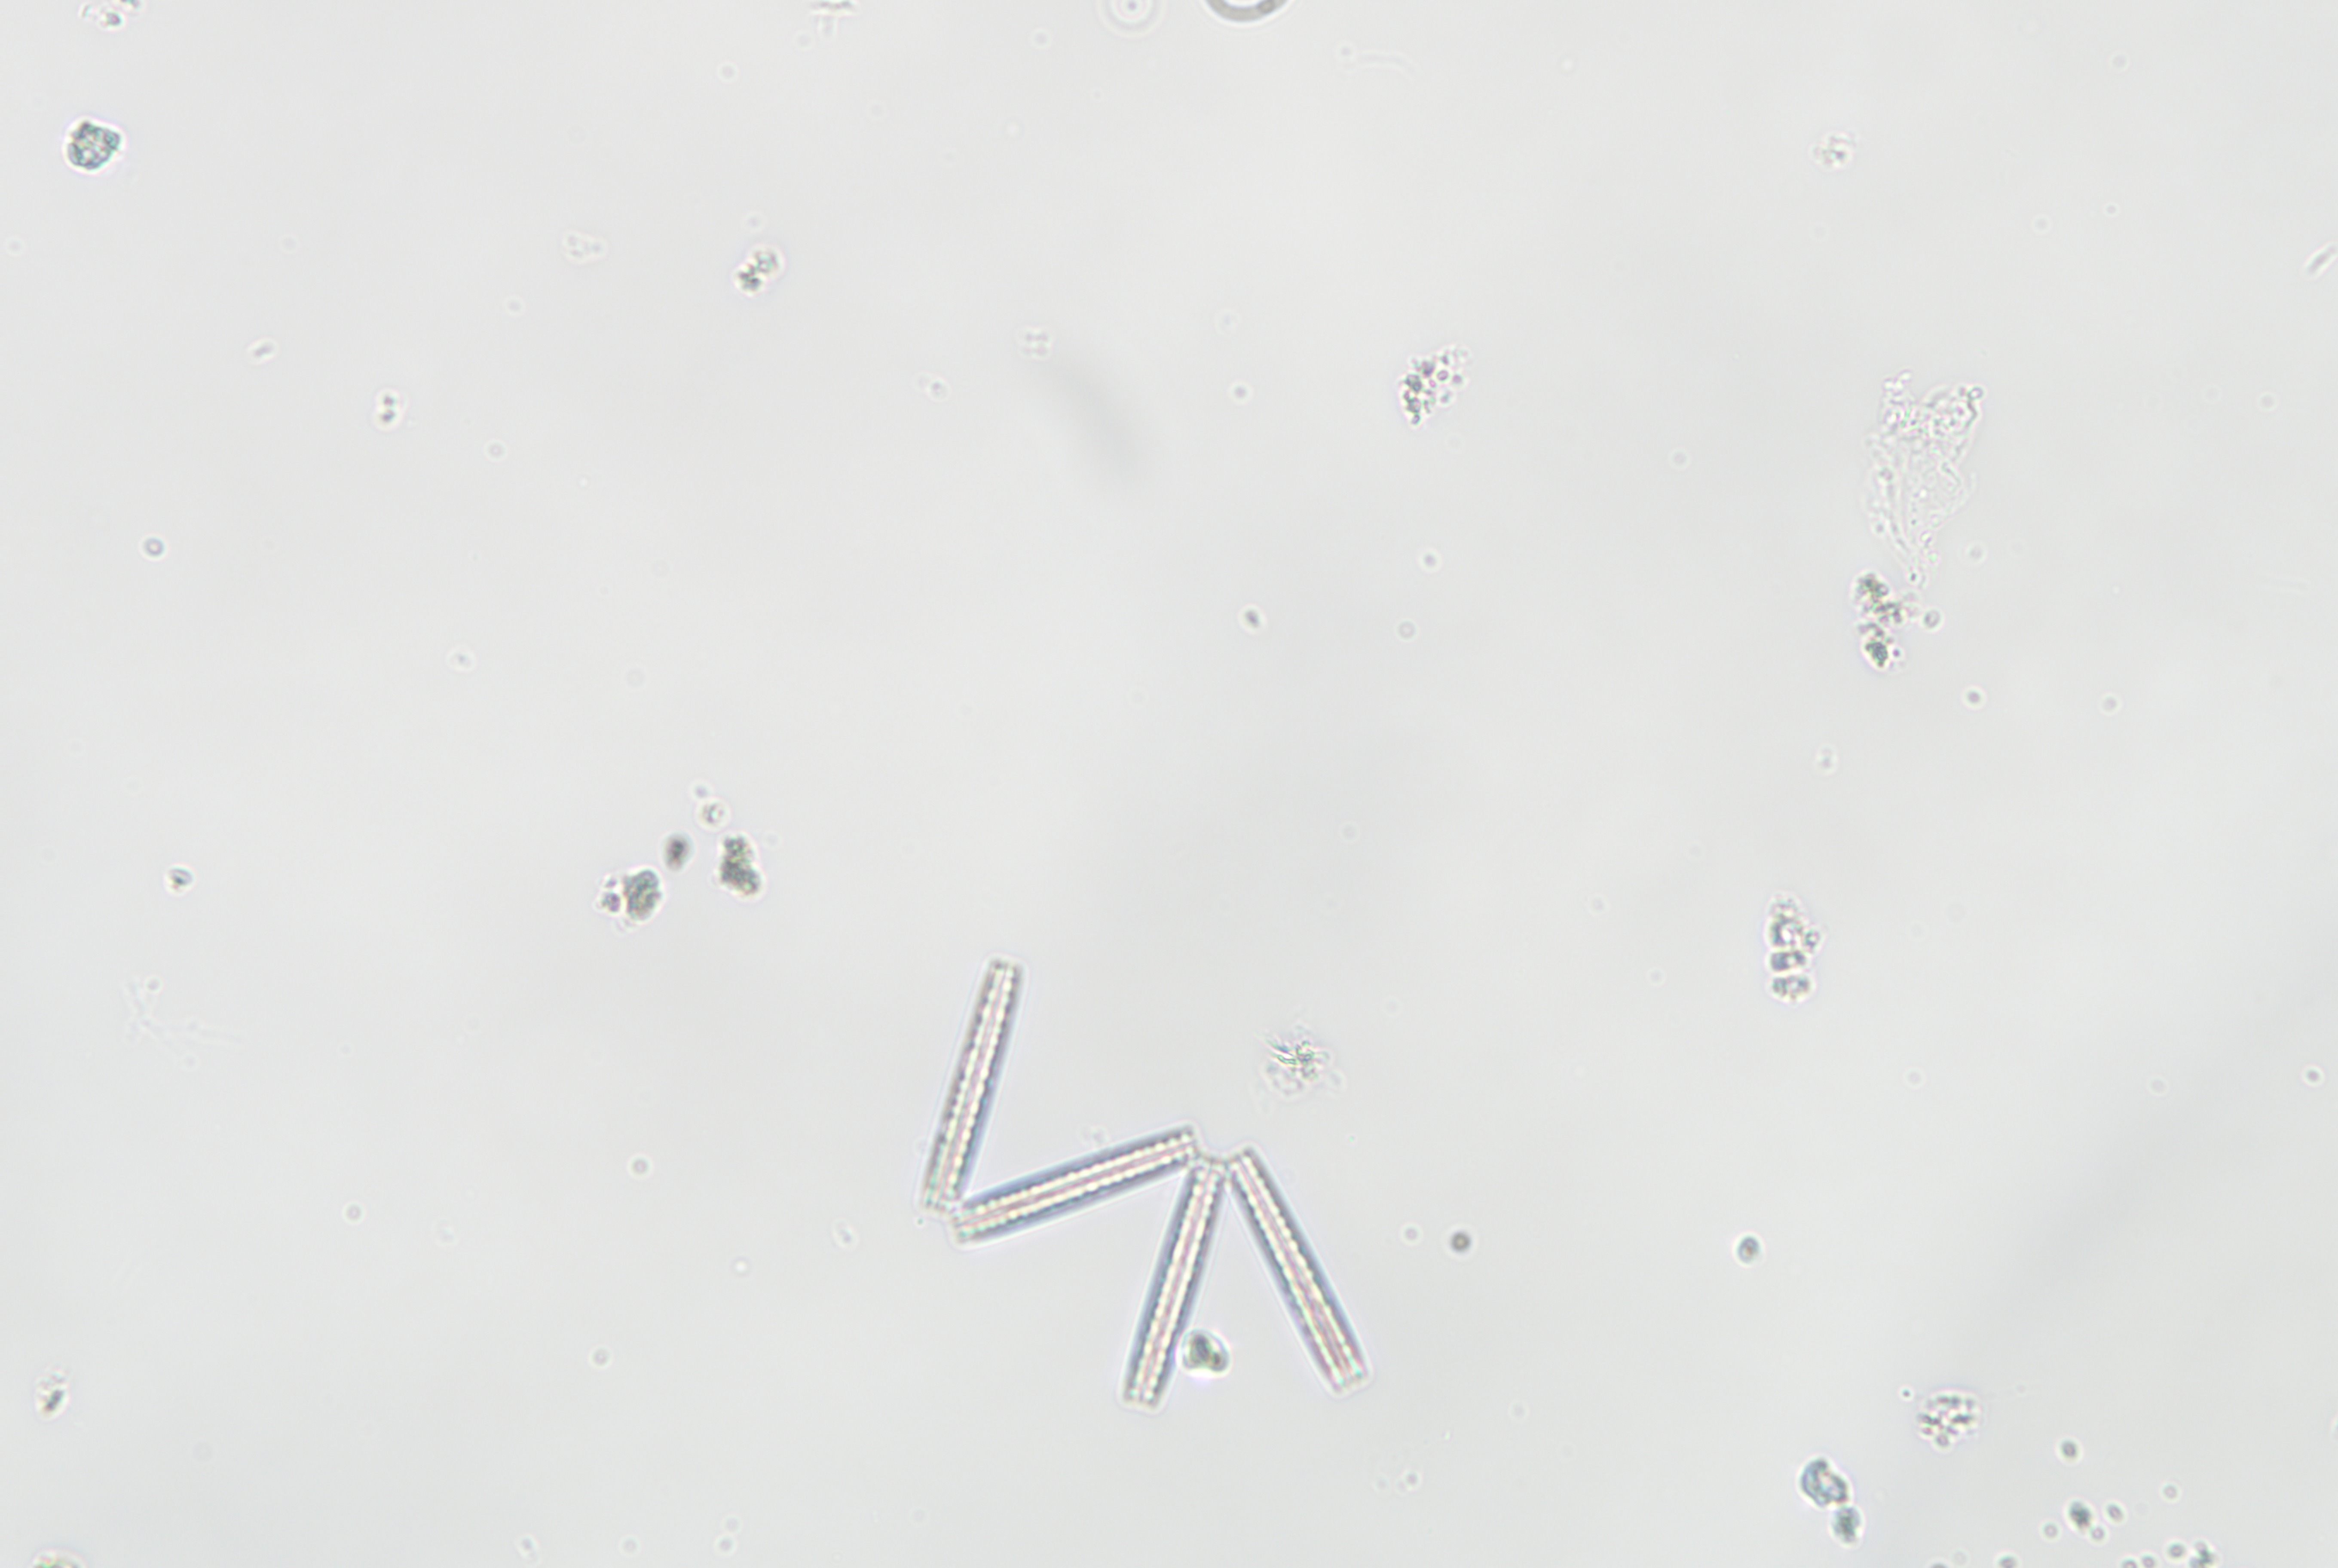thalassionema nitzschioides: (894, 922, 1382, 1410)
